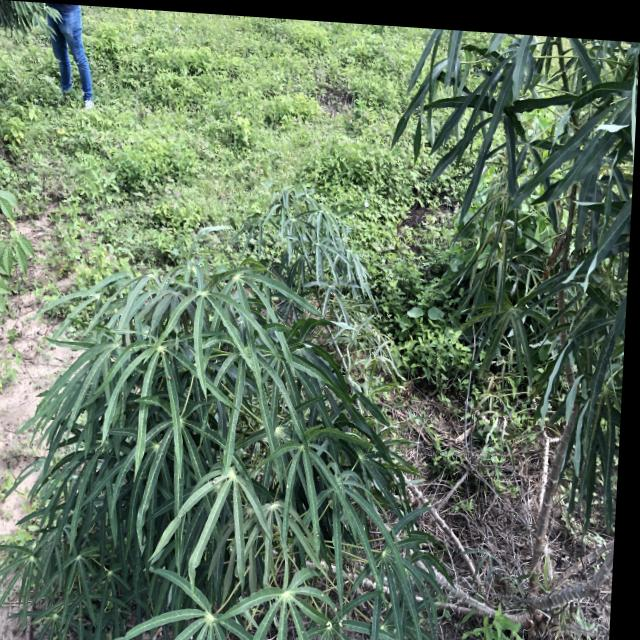Maleza: (100, 31, 396, 119), (0, 115, 196, 236), (164, 93, 403, 180)
Mosca: (72, 476, 90, 502), (95, 353, 119, 369), (290, 373, 309, 392), (382, 596, 399, 615), (157, 366, 171, 384), (504, 191, 519, 204), (267, 544, 283, 556), (236, 280, 246, 293)
